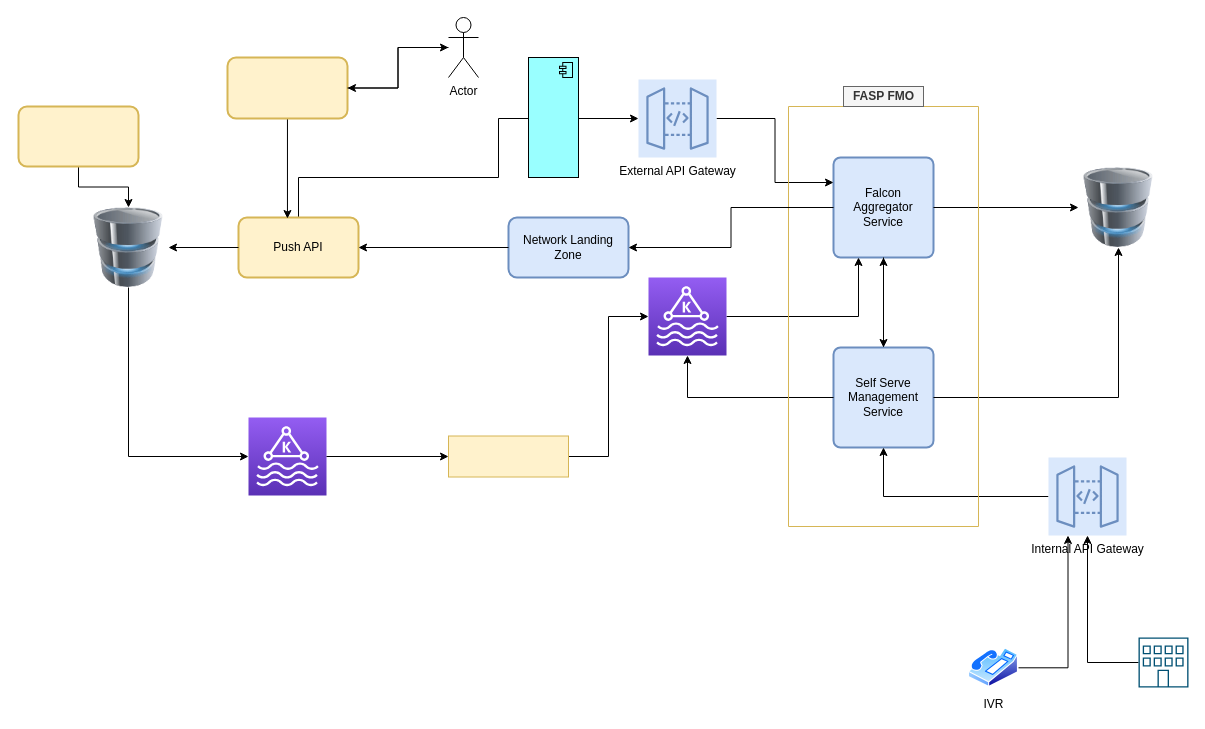
This 1205x729 diagram has some shape labels left out. Each missing label, with the box of its shape:
Branch: (1138, 637, 1188, 687)
CICD Pipeline: (448, 435, 568, 477)
Customer Contact Service: (226, 56, 348, 119)
F5 Load Balancer: (528, 56, 578, 178)
Falcon Debit Service: (17, 105, 139, 167)
